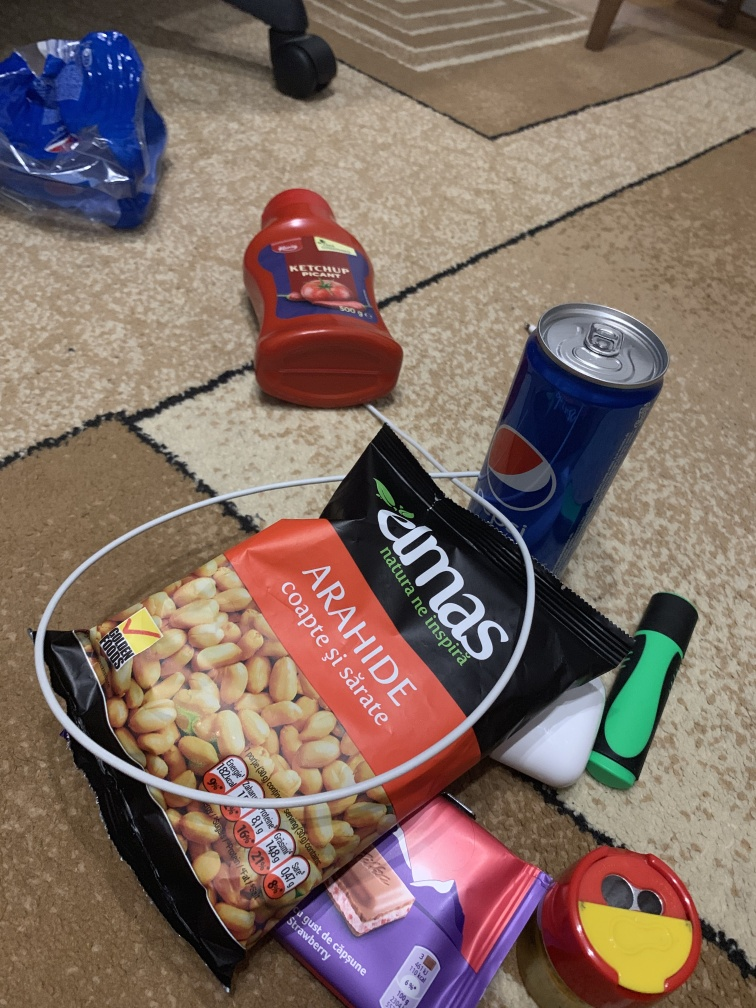ketchup: (239, 188, 400, 404)
milka: (278, 789, 568, 1008)
peanuts: (44, 423, 636, 959)
pepsi: (459, 302, 672, 591)
